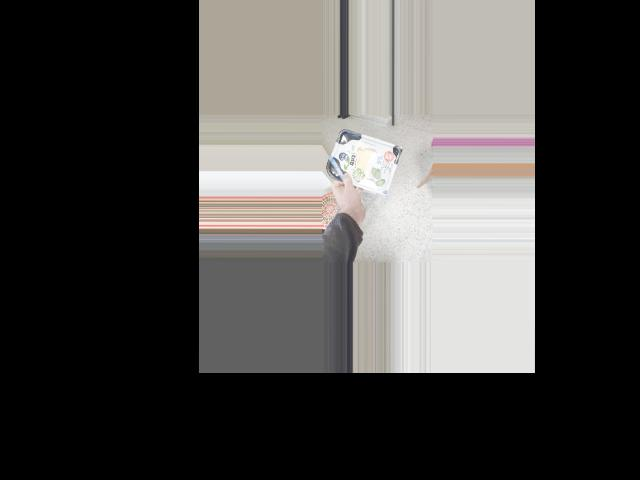cheese: (333, 138, 393, 185)
